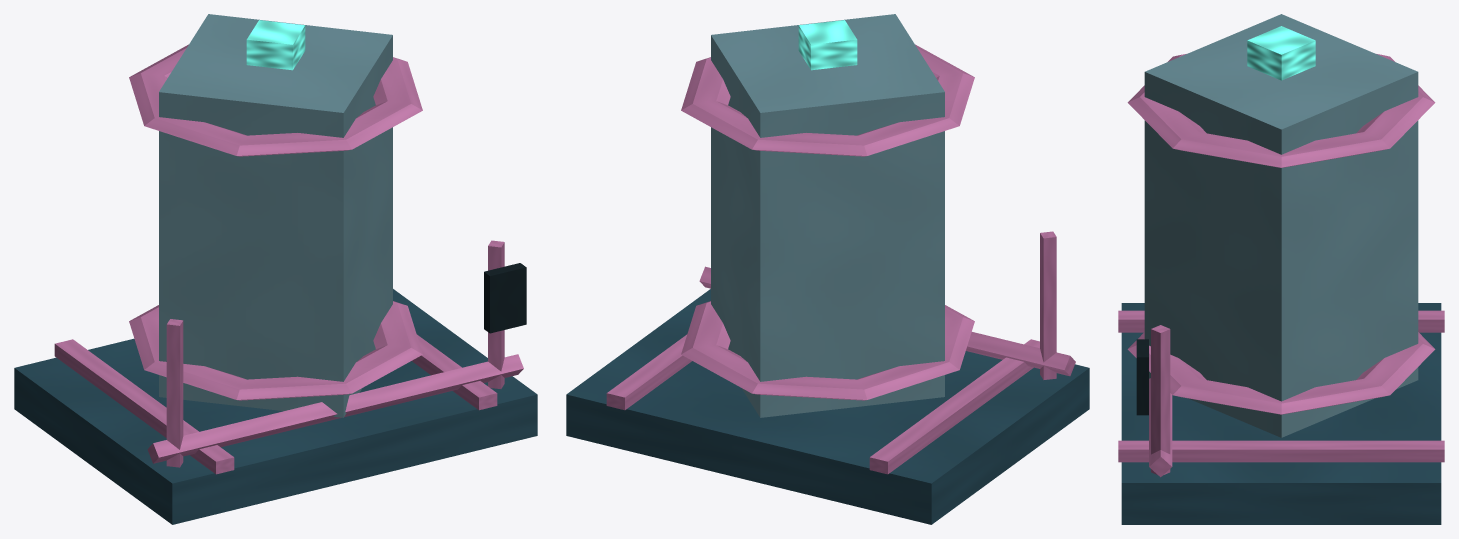
File: atlas100-s069-a04.lod2.glb
The picture shows the model from 3 angles, left to right: view 1: azimuth 30°, elevation 25°; view 2: azimuth 150°, elevation 25°; view 3: azimuth 270°, elevation 25°; orthographic projection.
Parts seen in each view (by area): view 1: atlas100-s069-a04:part-003, atlas100-s069-a04:part-000, atlas100-s069-a04:part-005, atlas100-s069-a04:part-004, atlas100-s069-a04:part-011, atlas100-s069-a04:part-001, atlas100-s069-a04:part-010, atlas100-s069-a04:part-006, atlas100-s069-a04:part-007, atlas100-s069-a04:part-002, atlas100-s069-a04:part-009; view 2: atlas100-s069-a04:part-003, atlas100-s069-a04:part-000, atlas100-s069-a04:part-005, atlas100-s069-a04:part-004, atlas100-s069-a04:part-001, atlas100-s069-a04:part-006, atlas100-s069-a04:part-002, atlas100-s069-a04:part-007, atlas100-s069-a04:part-011; view 3: atlas100-s069-a04:part-003, atlas100-s069-a04:part-000, atlas100-s069-a04:part-005, atlas100-s069-a04:part-002, atlas100-s069-a04:part-004, atlas100-s069-a04:part-006, atlas100-s069-a04:part-009, atlas100-s069-a04:part-001, atlas100-s069-a04:part-010, atlas100-s069-a04:part-011.
Part boxes in pixels (left/top/right/bottom): atlas100-s069-a04:part-003: left=159, top=14, right=392, bottom=417; atlas100-s069-a04:part-000: left=14, top=289, right=537, bottom=524; atlas100-s069-a04:part-005: left=129, top=44, right=422, bottom=156; atlas100-s069-a04:part-004: left=129, top=301, right=422, bottom=400; atlas100-s069-a04:part-011: left=147, top=354, right=523, bottom=463; atlas100-s069-a04:part-001: left=54, top=339, right=234, bottom=474; atlas100-s069-a04:part-010: left=484, top=263, right=526, bottom=333; atlas100-s069-a04:part-006: left=246, top=20, right=305, bottom=70; atlas100-s069-a04:part-007: left=166, top=319, right=183, bottom=467; atlas100-s069-a04:part-002: left=412, top=334, right=497, bottom=410; atlas100-s069-a04:part-009: left=488, top=240, right=504, bottom=388; atlas100-s069-a04:part-003: left=711, top=14, right=944, bottom=417; atlas100-s069-a04:part-000: left=566, top=289, right=1089, bottom=524; atlas100-s069-a04:part-005: left=681, top=44, right=974, bottom=156; atlas100-s069-a04:part-004: left=681, top=301, right=974, bottom=400; atlas100-s069-a04:part-001: left=869, top=339, right=1039, bottom=474; atlas100-s069-a04:part-006: left=798, top=20, right=857, bottom=70; atlas100-s069-a04:part-002: left=606, top=334, right=691, bottom=410; atlas100-s069-a04:part-007: left=1040, top=231, right=1056, bottom=379; atlas100-s069-a04:part-011: left=699, top=266, right=1075, bottom=376; atlas100-s069-a04:part-003: left=1144, top=14, right=1418, bottom=437; atlas100-s069-a04:part-000: left=1121, top=303, right=1441, bottom=524; atlas100-s069-a04:part-005: left=1127, top=54, right=1435, bottom=167; atlas100-s069-a04:part-002: left=1118, top=440, right=1444, bottom=462; atlas100-s069-a04:part-004: left=1127, top=332, right=1435, bottom=414; atlas100-s069-a04:part-006: left=1247, top=26, right=1315, bottom=80; atlas100-s069-a04:part-009: left=1151, top=325, right=1170, bottom=474; atlas100-s069-a04:part-001: left=1118, top=310, right=1444, bottom=332; atlas100-s069-a04:part-010: left=1136, top=339, right=1148, bottom=415; atlas100-s069-a04:part-011: left=1149, top=378, right=1172, bottom=477.
Bounding box in the file's own units: 2.4 × 2.45 × 1.84.
5 materials, 5 textured.
